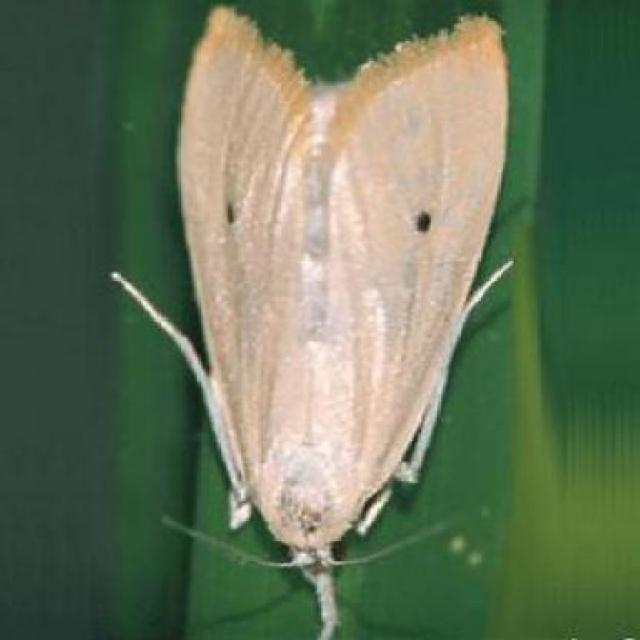stem-borer: (106, 3, 517, 640)
